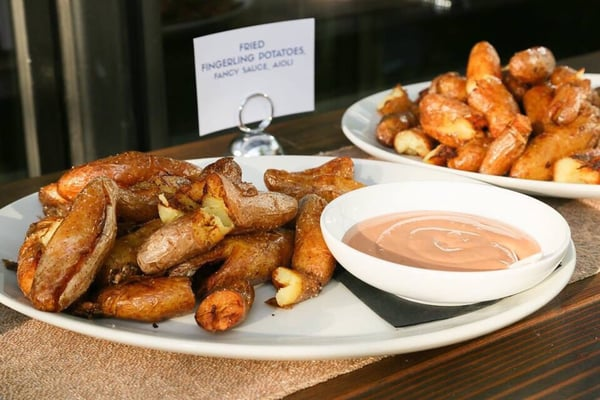soup: (16, 178, 119, 312)
sushi: (337, 43, 600, 209), (320, 179, 576, 310)
